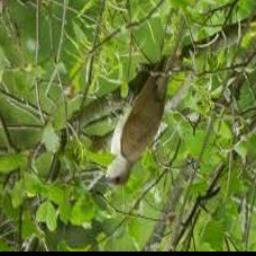Cuckoo: (101, 16, 186, 186)
